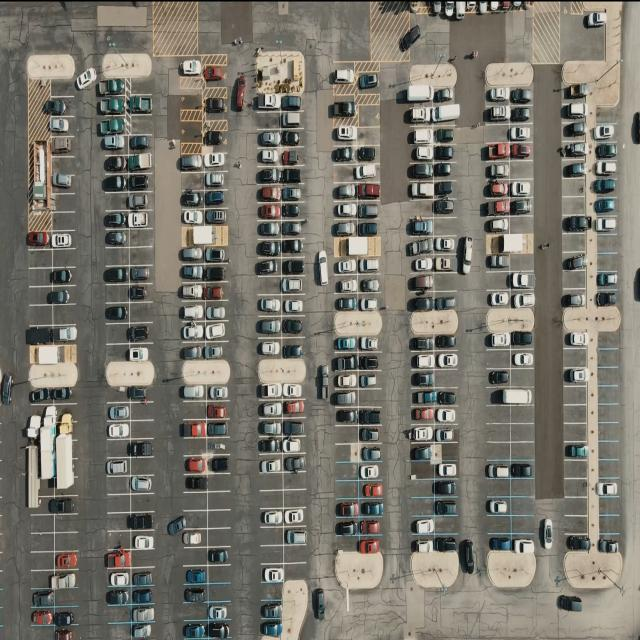space-empty: (183, 226, 214, 246), (106, 322, 131, 344), (28, 305, 54, 326), (179, 122, 203, 144), (562, 234, 588, 254), (562, 270, 588, 290), (562, 176, 588, 196), (129, 229, 155, 249), (54, 531, 80, 551), (561, 196, 588, 215), (180, 400, 207, 419), (105, 283, 130, 303), (105, 476, 130, 496), (563, 404, 588, 424), (183, 510, 208, 530), (512, 496, 537, 516), (29, 286, 54, 306), (181, 438, 207, 457), (484, 349, 510, 368), (103, 191, 129, 210), (130, 493, 156, 512), (129, 246, 155, 265), (408, 200, 434, 219), (182, 601, 208, 620), (487, 406, 513, 425), (486, 479, 512, 498), (356, 106, 379, 127), (129, 303, 152, 324), (130, 114, 154, 134), (563, 348, 587, 368), (106, 529, 130, 549), (563, 385, 587, 405), (28, 248, 52, 268), (256, 275, 280, 295), (335, 424, 359, 444), (30, 514, 54, 534), (130, 456, 154, 476), (184, 491, 208, 511), (130, 402, 154, 422), (31, 552, 55, 572), (564, 496, 588, 516), (484, 125, 509, 144), (436, 369, 461, 388), (434, 217, 459, 236), (511, 479, 536, 498), (512, 516, 537, 535), (510, 406, 535, 425), (182, 548, 208, 566), (510, 424, 536, 442), (486, 272, 512, 290), (256, 111, 282, 129), (484, 423, 510, 441), (28, 210, 50, 231), (54, 306, 77, 326), (596, 235, 620, 254), (260, 527, 284, 546), (106, 493, 130, 512), (105, 439, 129, 458), (563, 459, 587, 478), (30, 532, 54, 551), (106, 513, 130, 532), (28, 268, 52, 287), (596, 348, 620, 367), (596, 366, 620, 385), (132, 550, 156, 569), (52, 157, 76, 176), (207, 491, 231, 510), (411, 460, 435, 479), (564, 479, 588, 498), (131, 419, 155, 438), (564, 423, 588, 442), (208, 511, 232, 530), (355, 127, 379, 146), (208, 564, 232, 583), (410, 479, 434, 498), (511, 442, 535, 461), (512, 368, 536, 387), (336, 461, 360, 480), (486, 442, 510, 461), (52, 78, 76, 97), (510, 252, 535, 270), (435, 516, 460, 534), (487, 516, 512, 534), (564, 516, 589, 534), (128, 77, 154, 94), (598, 422, 620, 442), (597, 384, 619, 404), (54, 248, 77, 267), (283, 489, 306, 508), (597, 252, 620, 271), (283, 544, 306, 563), (207, 474, 230, 493), (52, 193, 76, 211), (54, 589, 78, 607), (104, 248, 128, 266), (179, 172, 203, 190), (282, 471, 306, 489), (107, 606, 131, 624), (509, 162, 533, 180), (434, 274, 458, 292), (335, 481, 359, 499), (261, 472, 285, 490), (261, 490, 285, 508), (510, 216, 534, 234), (207, 528, 231, 546), (598, 441, 619, 461), (54, 211, 76, 230), (598, 404, 620, 423), (358, 388, 380, 407), (31, 569, 53, 588), (598, 459, 620, 478), (208, 583, 230, 602), (438, 443, 460, 462), (284, 562, 306, 581), (56, 515, 79, 533), (262, 546, 285, 564), (411, 496, 434, 514), (263, 584, 285, 602), (335, 165, 357, 183), (336, 444, 358, 462), (597, 332, 619, 350), (105, 385, 128, 402), (180, 94, 203, 111), (336, 535, 359, 552), (106, 345, 129, 362), (108, 624, 132, 640), (599, 516, 620, 534), (598, 497, 618, 515), (596, 107, 617, 124), (32, 626, 54, 640)
space-occupied: (492, 384, 534, 404), (98, 114, 129, 134), (432, 102, 460, 124), (100, 135, 130, 155), (562, 213, 590, 234), (99, 96, 128, 116), (333, 64, 357, 88), (203, 92, 228, 115), (590, 176, 618, 196), (334, 98, 358, 121), (180, 56, 203, 80), (50, 135, 75, 157), (562, 286, 587, 308), (408, 179, 434, 200), (50, 94, 76, 115), (561, 102, 588, 122), (488, 385, 516, 404), (204, 128, 228, 150), (51, 172, 76, 193), (49, 117, 75, 137), (103, 229, 129, 249), (485, 86, 511, 106), (128, 154, 154, 174), (510, 270, 536, 290), (104, 172, 130, 192), (561, 140, 587, 160), (179, 264, 205, 284), (592, 215, 618, 235), (408, 236, 434, 256), (561, 120, 587, 140), (484, 178, 510, 198), (253, 92, 279, 112), (408, 216, 434, 236), (486, 288, 512, 308), (485, 458, 511, 478), (405, 86, 432, 105), (356, 71, 379, 93), (129, 94, 153, 115), (280, 296, 304, 317), (129, 209, 154, 229), (104, 304, 129, 324), (54, 324, 79, 344), (333, 125, 358, 145), (104, 266, 129, 286), (181, 418, 206, 438), (484, 104, 509, 124), (256, 238, 281, 258), (435, 349, 460, 369), (258, 294, 283, 314), (407, 105, 432, 125), (106, 550, 131, 570), (410, 291, 435, 311), (487, 495, 512, 515), (410, 442, 435, 462), (184, 528, 209, 548), (511, 288, 536, 308), (259, 398, 284, 418), (131, 513, 156, 533), (560, 160, 586, 179), (180, 383, 206, 402), (178, 282, 204, 301), (592, 198, 618, 217), (408, 163, 434, 182), (485, 332, 511, 351), (560, 83, 586, 102), (484, 142, 510, 161), (410, 351, 436, 370), (100, 77, 127, 95), (101, 154, 128, 172), (333, 388, 360, 406), (484, 199, 511, 217), (180, 245, 207, 263), (282, 338, 304, 360), (281, 316, 304, 337), (130, 475, 154, 495), (512, 348, 536, 368), (563, 365, 587, 385), (178, 152, 202, 172), (106, 456, 130, 476), (130, 265, 154, 285), (204, 152, 228, 172), (105, 419, 129, 439), (132, 530, 156, 550), (105, 400, 129, 420), (356, 181, 380, 201), (258, 316, 282, 336), (28, 230, 52, 250), (263, 562, 287, 582), (130, 439, 154, 459), (280, 275, 304, 295), (434, 290, 458, 310), (258, 146, 282, 166), (260, 454, 284, 474), (204, 64, 228, 84), (180, 302, 204, 322), (258, 338, 282, 358), (256, 258, 280, 278), (354, 163, 378, 183), (335, 274, 359, 294), (107, 568, 131, 588), (179, 320, 203, 340), (486, 160, 510, 180), (280, 436, 304, 456), (562, 252, 587, 271), (563, 331, 588, 350), (334, 371, 359, 390), (335, 407, 360, 426), (28, 325, 53, 344), (259, 418, 284, 437), (207, 621, 232, 640), (409, 424, 434, 443), (510, 458, 535, 477), (409, 273, 434, 292), (411, 368, 436, 387), (409, 127, 434, 146), (180, 207, 205, 226), (50, 285, 75, 304), (31, 385, 56, 404), (334, 353, 360, 371), (485, 216, 511, 234), (130, 322, 152, 343), (204, 320, 226, 341), (53, 230, 76, 250), (208, 600, 231, 620), (510, 178, 533, 198), (207, 454, 230, 474), (356, 201, 379, 221), (184, 474, 207, 494), (359, 444, 382, 464), (205, 281, 228, 301), (435, 406, 458, 426), (261, 620, 284, 640), (261, 509, 285, 528), (182, 456, 206, 475), (564, 442, 588, 461), (410, 516, 434, 535), (258, 219, 282, 238), (280, 258, 304, 277), (280, 202, 304, 221), (182, 621, 206, 640), (488, 369, 512, 388), (258, 202, 282, 221), (53, 496, 77, 515), (434, 253, 458, 272), (334, 201, 358, 220), (204, 264, 228, 283), (132, 603, 156, 622), (512, 533, 536, 552), (104, 210, 129, 228), (334, 182, 359, 200), (336, 518, 361, 536), (509, 198, 534, 216), (409, 144, 434, 162), (358, 518, 383, 536), (335, 295, 360, 313), (566, 534, 591, 552), (432, 480, 457, 498), (412, 387, 437, 405), (409, 254, 434, 272), (53, 606, 78, 624), (434, 534, 459, 552), (205, 302, 227, 322), (280, 146, 302, 166), (282, 238, 304, 258), (511, 88, 534, 107), (130, 135, 153, 154), (510, 125, 533, 144), (55, 569, 78, 588), (283, 508, 306, 527), (204, 170, 227, 189), (55, 552, 78, 571), (597, 534, 620, 553), (282, 453, 305, 472), (53, 268, 76, 287), (262, 600, 285, 619), (594, 141, 617, 160), (283, 526, 306, 545), (358, 424, 381, 443), (282, 398, 305, 417), (595, 288, 618, 307), (434, 200, 458, 218), (180, 190, 204, 208), (336, 498, 360, 516), (592, 124, 616, 142), (354, 145, 378, 163), (183, 566, 207, 584), (108, 588, 132, 606), (336, 336, 360, 354), (256, 167, 280, 185), (258, 130, 282, 148), (258, 184, 282, 202), (184, 585, 208, 603), (511, 332, 535, 350), (358, 462, 382, 480), (280, 218, 304, 236), (434, 497, 458, 515), (488, 534, 512, 552), (334, 218, 358, 236), (488, 252, 512, 270), (412, 407, 436, 425), (358, 482, 382, 500), (336, 258, 360, 276), (202, 342, 226, 360), (206, 438, 230, 456), (107, 576, 131, 594), (208, 547, 230, 566), (434, 162, 456, 181), (32, 589, 54, 608), (130, 283, 152, 302), (130, 191, 152, 210), (206, 418, 228, 437), (334, 144, 356, 163), (280, 130, 302, 149), (132, 567, 154, 586), (358, 275, 380, 294), (207, 402, 229, 421), (205, 245, 227, 264), (54, 383, 76, 402), (207, 384, 230, 402), (434, 144, 457, 162), (510, 142, 533, 160), (281, 382, 304, 400), (510, 106, 533, 124), (434, 126, 457, 144), (32, 609, 55, 627), (280, 110, 303, 128), (132, 588, 155, 606), (280, 94, 303, 112), (129, 174, 152, 192), (434, 87, 457, 105), (435, 460, 458, 478), (356, 408, 379, 426), (280, 184, 303, 202), (359, 498, 382, 516), (358, 534, 381, 552), (281, 418, 304, 436), (356, 295, 379, 313), (412, 534, 435, 552), (434, 237, 458, 254), (258, 383, 282, 400), (593, 161, 617, 178), (29, 190, 49, 210), (437, 387, 458, 406), (358, 371, 379, 390), (204, 189, 226, 207), (435, 179, 457, 197), (597, 272, 619, 290), (436, 424, 458, 442), (357, 352, 379, 370), (131, 623, 154, 640), (260, 438, 283, 455), (129, 344, 152, 361), (180, 343, 203, 360), (410, 336, 434, 352), (412, 382, 436, 398), (598, 480, 619, 498), (357, 256, 378, 274), (436, 335, 458, 352), (357, 337, 379, 354), (356, 219, 378, 236), (204, 209, 226, 226), (280, 167, 302, 184), (130, 386, 152, 403), (278, 79, 302, 94), (54, 626, 76, 640)
